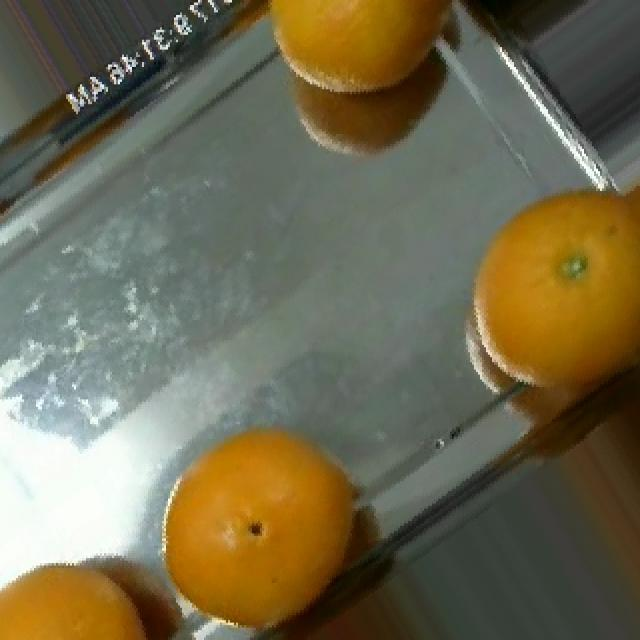Fruit: (272, 60, 444, 188)
